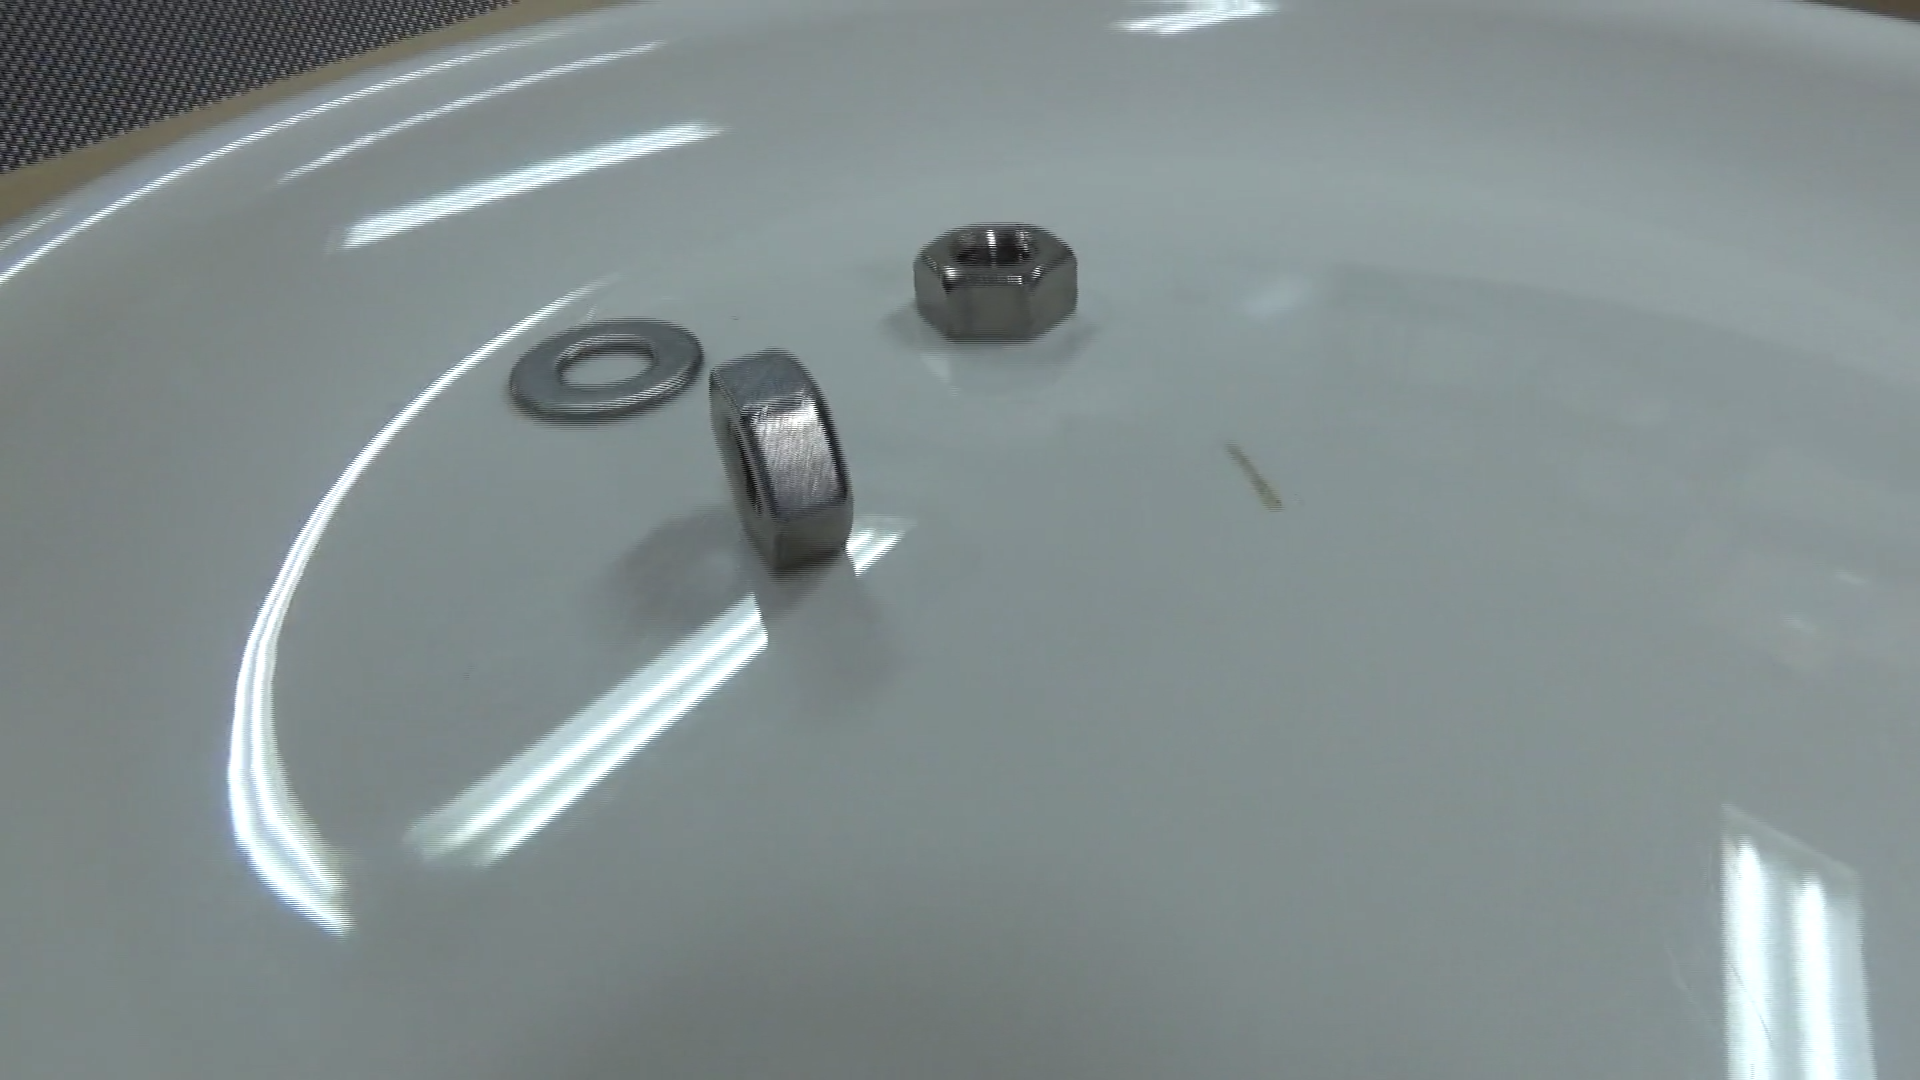nut: (703, 345, 857, 575), (906, 218, 1083, 345)
washer: (506, 313, 699, 422)
